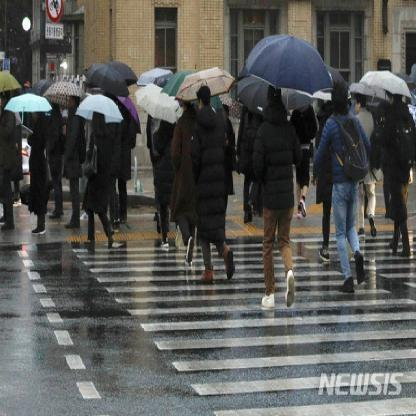Umbrella: (234, 24, 340, 100), (164, 54, 245, 116), (73, 85, 136, 142), (77, 58, 150, 104), (131, 80, 185, 138), (353, 66, 414, 113), (232, 71, 284, 122), (40, 70, 95, 110), (1, 90, 57, 127), (344, 72, 391, 113), (134, 54, 178, 89), (32, 68, 62, 102), (0, 64, 22, 99)
